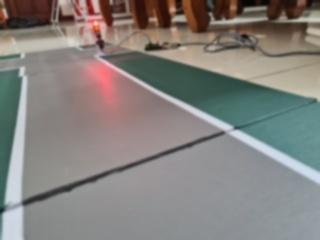red: (85, 15, 112, 48)
